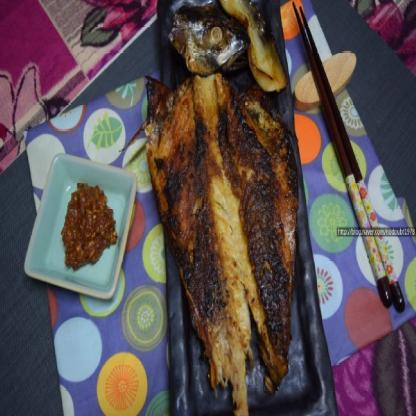Peixe: (131, 0, 308, 416)
